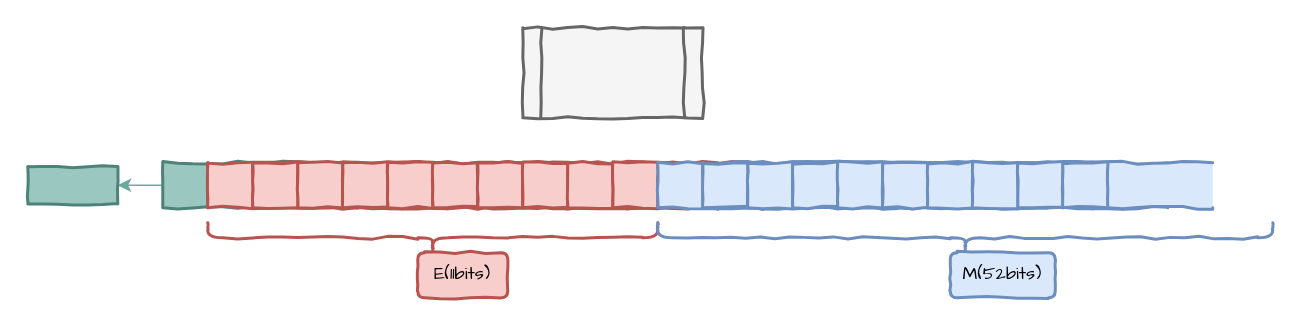
Some shapes in this 1299 by 324 pixel diagram are drawn without their labels. The centre of each missing label's shape, as x and y in pixels:
double: the point at 612,72
S(1 bit): the point at 72,184
